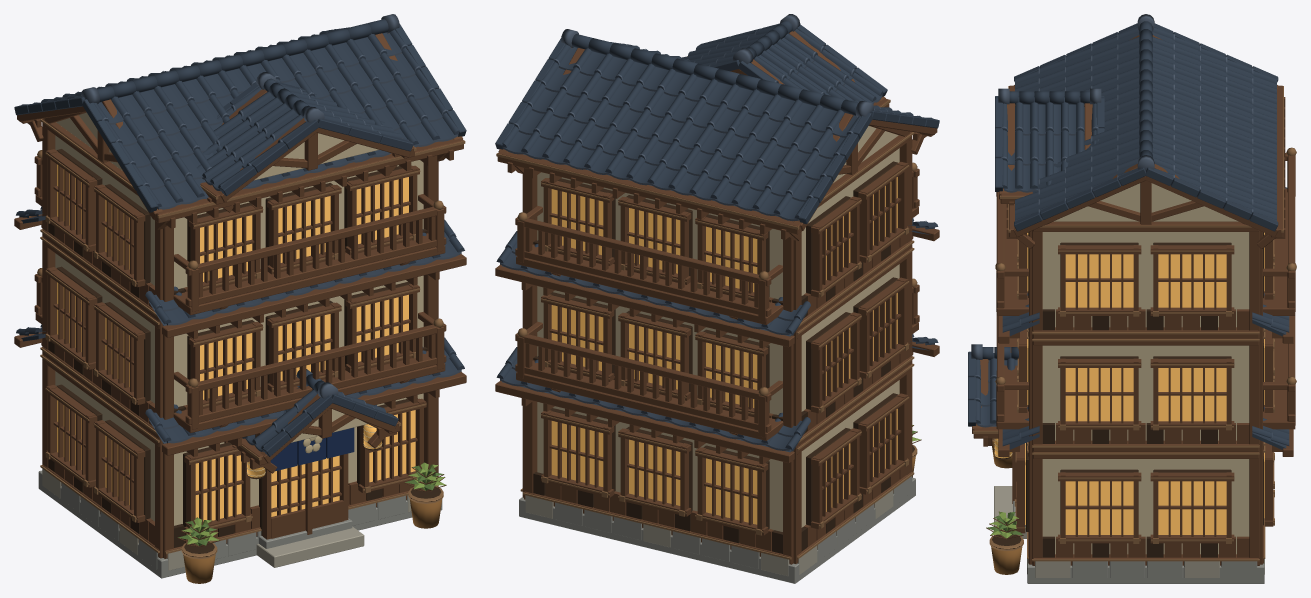
The picture shows the model from 3 angles, left to right: view 1: azimuth 30°, elevation 25°; view 2: azimuth 150°, elevation 25°; view 3: azimuth 270°, elevation 25°; orthographic projection. The views are drawn at different scales.
Visible parts, largest first — view 1: compact_hotel_3_geometry; view 2: compact_hotel_3_geometry; view 3: compact_hotel_3_geometry.
Part boxes in pixels (x1=…): compact_hotel_3_geometry: x1=14, y1=14, x2=466, y2=583; compact_hotel_3_geometry: x1=495, y1=14, x2=939, y2=583; compact_hotel_3_geometry: x1=968, y1=14, x2=1296, y2=583.
Size of the model in its own units: 0.99 by 1.34 by 0.9262.
